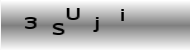3: (23, 16, 36, 29)
S: (50, 21, 64, 36)
U: (65, 7, 81, 21)
i: (118, 7, 125, 22)
j: (92, 15, 99, 33)
